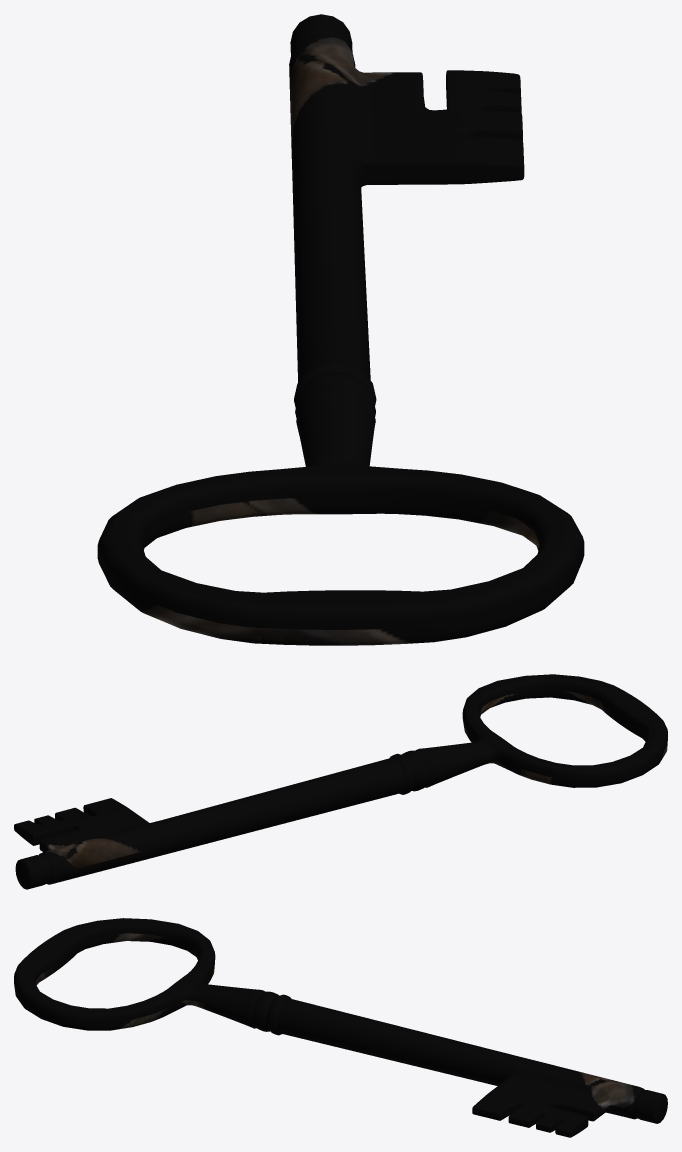
The model's file is Key.fbx.
3 renders of one model, top to bottom at view 1: azimuth 30°, elevation 25°; view 2: azimuth 150°, elevation 25°; view 3: azimuth 270°, elevation 25°, orthographic. The views are drawn at different scales.
Visible parts, largest first — view 1: Object_2; view 2: Object_2; view 3: Object_2.
Boxes of the visible parts, x1=… form: Object_2: x1=97, y1=14, x2=584, y2=645; Object_2: x1=14, y1=674, x2=667, y2=889; Object_2: x1=14, y1=918, x2=667, y2=1137.
Bounding box in the file's own units: 56.48 × 4.96 × 77.08.
